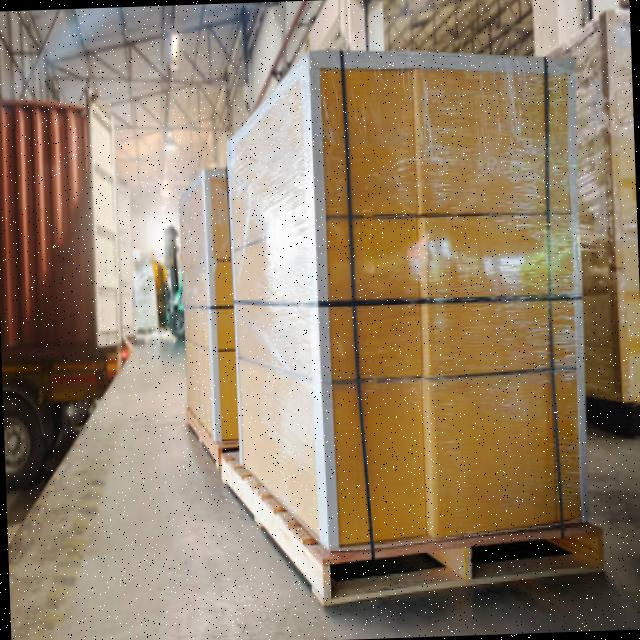Wooden-Pallets: (220, 440, 613, 621), (181, 395, 221, 476)
